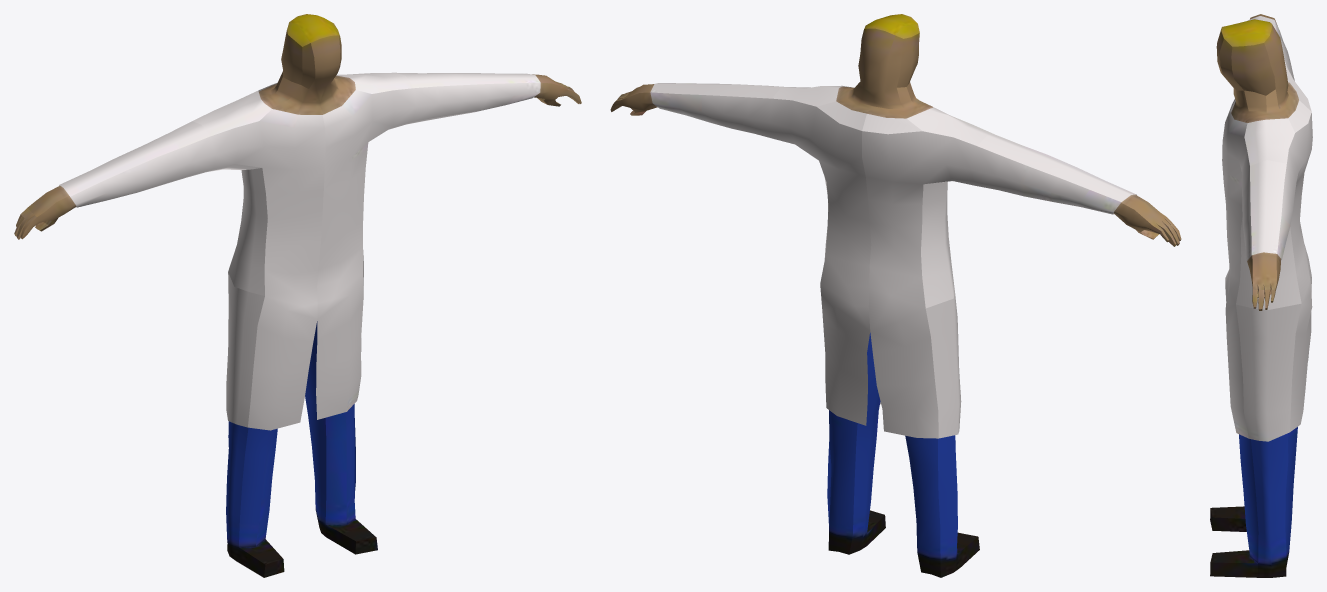
File: CaraMorto.fbx
3 renders of one model, left to right at view 1: azimuth 30°, elevation 25°; view 2: azimuth 150°, elevation 25°; view 3: azimuth 270°, elevation 25°, orthographic.
Visible parts, largest first — view 1: polySurface5; view 2: polySurface5; view 3: polySurface5.
Boxes of the visible parts, <box> form: polySurface5: <box>14,14,581,577</box>; polySurface5: <box>610,14,1181,577</box>; polySurface5: <box>1210,14,1312,577</box>.
Bounding box in the file's own units: 33.12 × 29.68 × 5.19.
1 material, 1 textured.
